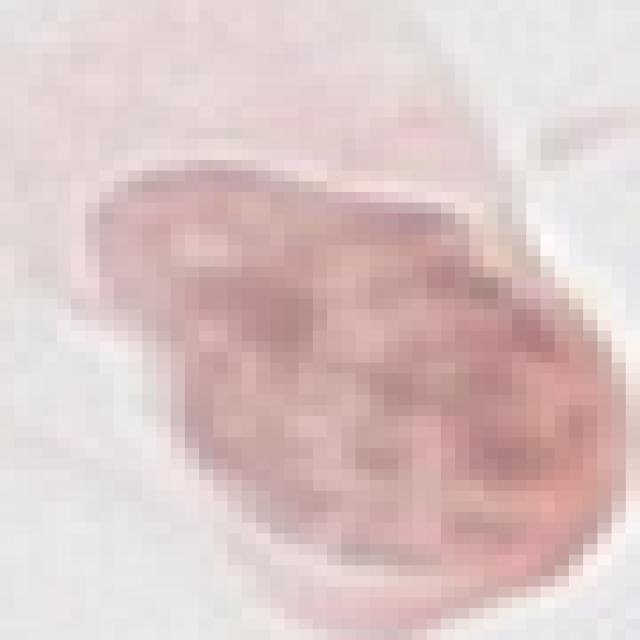nucleus: (45, 149, 640, 596)
